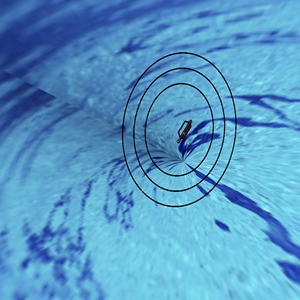circle: (113, 42, 246, 214)
submarine: (174, 115, 194, 149)
